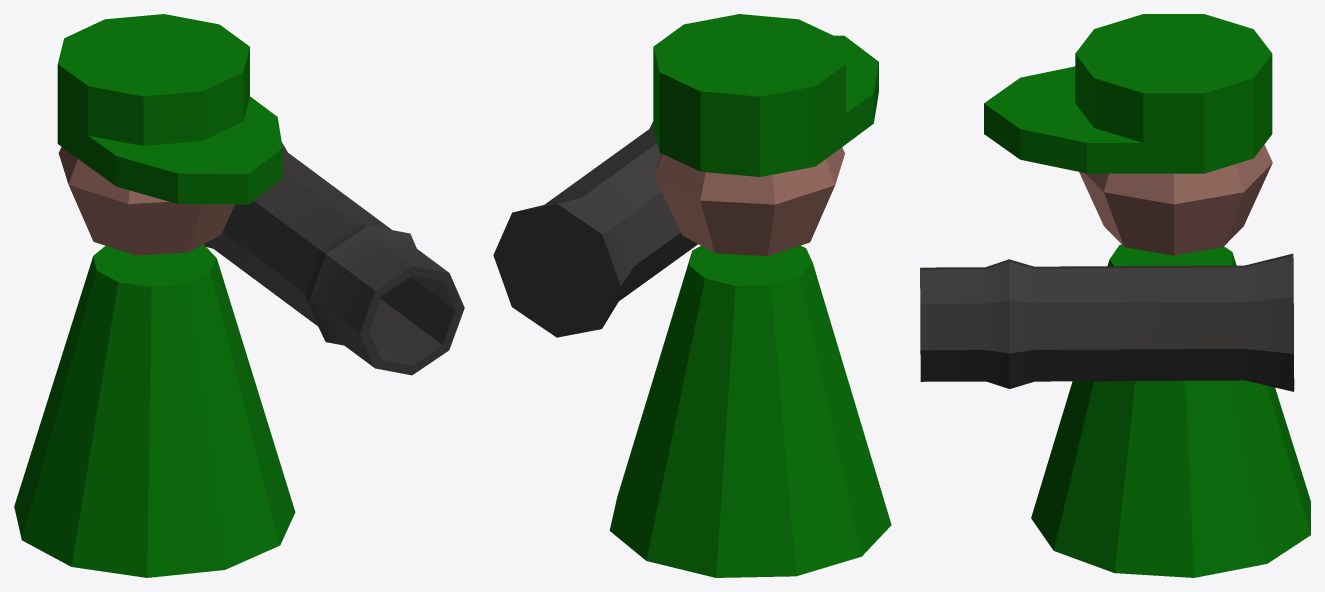
The model's file is Bazooker.fbx.
3 renders of one model, left to right at view 1: azimuth 30°, elevation 25°; view 2: azimuth 150°, elevation 25°; view 3: azimuth 270°, elevation 25°, orthographic.
Visible parts, largest first — view 1: Body, Hat, Bazooka, Head; view 2: Body, Hat, Bazooka, Head; view 3: Body, Bazooka, Hat, Head.
Boxes of the visible parts, x1,y1,x2,y2 form: Body: (14, 244, 295, 577); Hat: (57, 14, 282, 204); Bazooka: (204, 143, 464, 375); Head: (58, 147, 234, 255); Body: (609, 245, 891, 577); Hat: (653, 14, 878, 176); Bazooka: (493, 121, 697, 337); Head: (654, 147, 844, 256); Body: (1031, 244, 1310, 577); Bazooka: (920, 253, 1294, 391); Hat: (984, 14, 1272, 173); Head: (1079, 144, 1272, 255).
Bounding box in the file's own units: 1.01 × 1.41 × 1.07.
